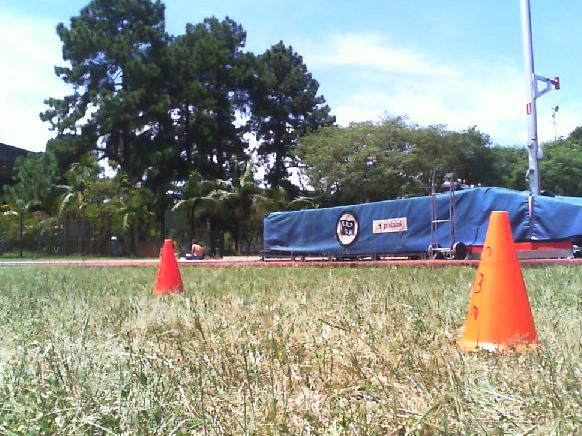0 cone: (458, 210, 541, 356), (152, 239, 186, 296)
